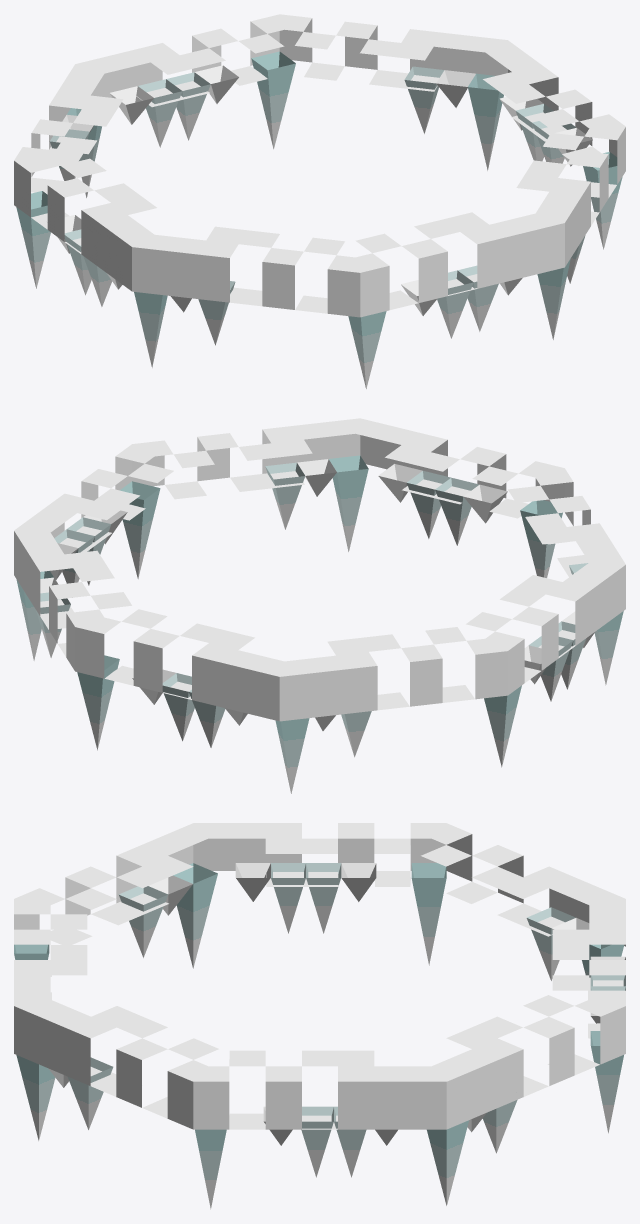
The model's file is boss_trophy_fey_winter_3.obj.
The picture shows the model from 3 angles, top to bottom: view 1: azimuth 30°, elevation 25°; view 2: azimuth 150°, elevation 25°; view 3: azimuth 270°, elevation 25°; orthographic projection. The views are drawn at different scales.
Visible parts, largest first — view 1: BOSS_TROPHY_FEY_WINTER_3_Plane.007; view 2: BOSS_TROPHY_FEY_WINTER_3_Plane.007; view 3: BOSS_TROPHY_FEY_WINTER_3_Plane.007.
Part boxes in pixels (x1,y1,x2,y2): BOSS_TROPHY_FEY_WINTER_3_Plane.007: (14,14,625,388); BOSS_TROPHY_FEY_WINTER_3_Plane.007: (14,418,625,793); BOSS_TROPHY_FEY_WINTER_3_Plane.007: (14,823,625,1209).
Bounding box in the file's own units: 1.09 × 0.2656 × 1.09.
